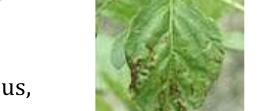Tomato leaf bacterial spot: (124, 0, 224, 111)
